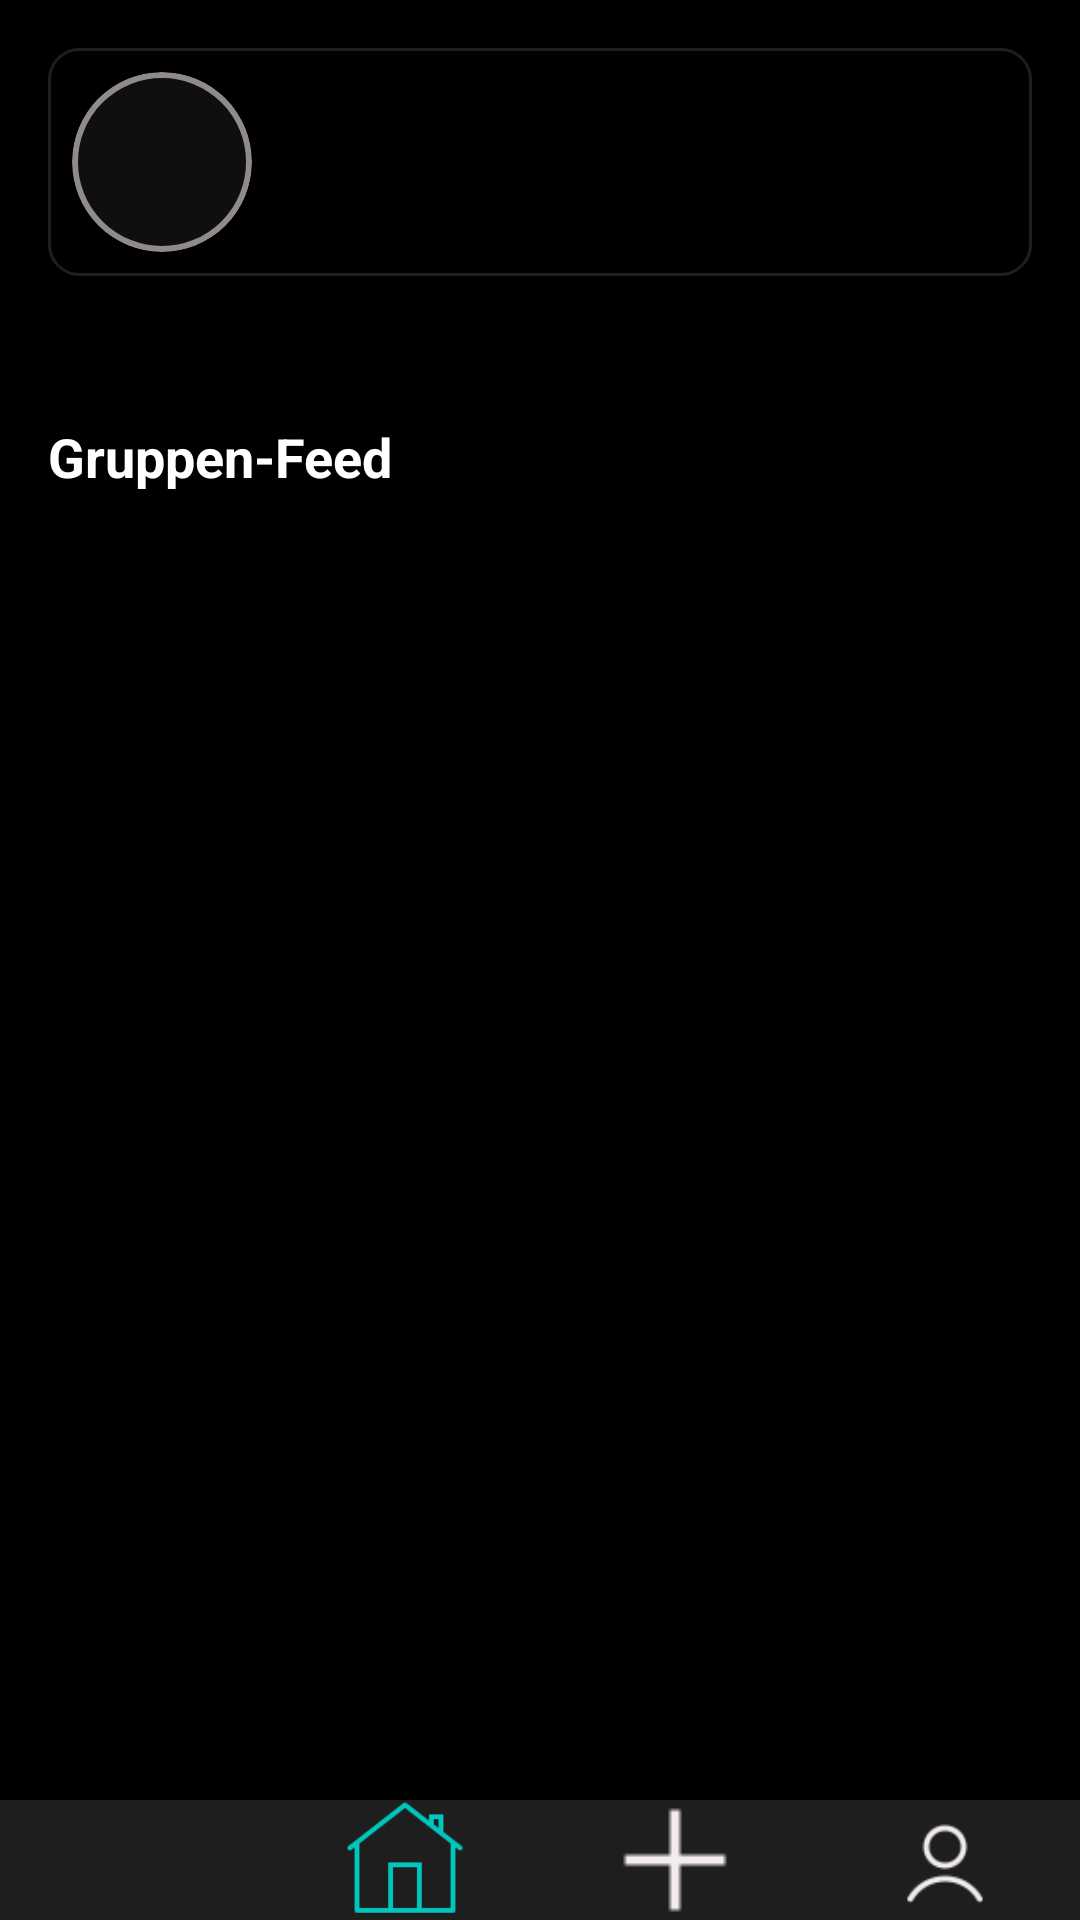

Icons on this 1080w x 1920h Android screen, each with the point to tap as point (x, y):
add: point (675, 1860)
home: point (405, 1857)
profile: point (945, 1863)
